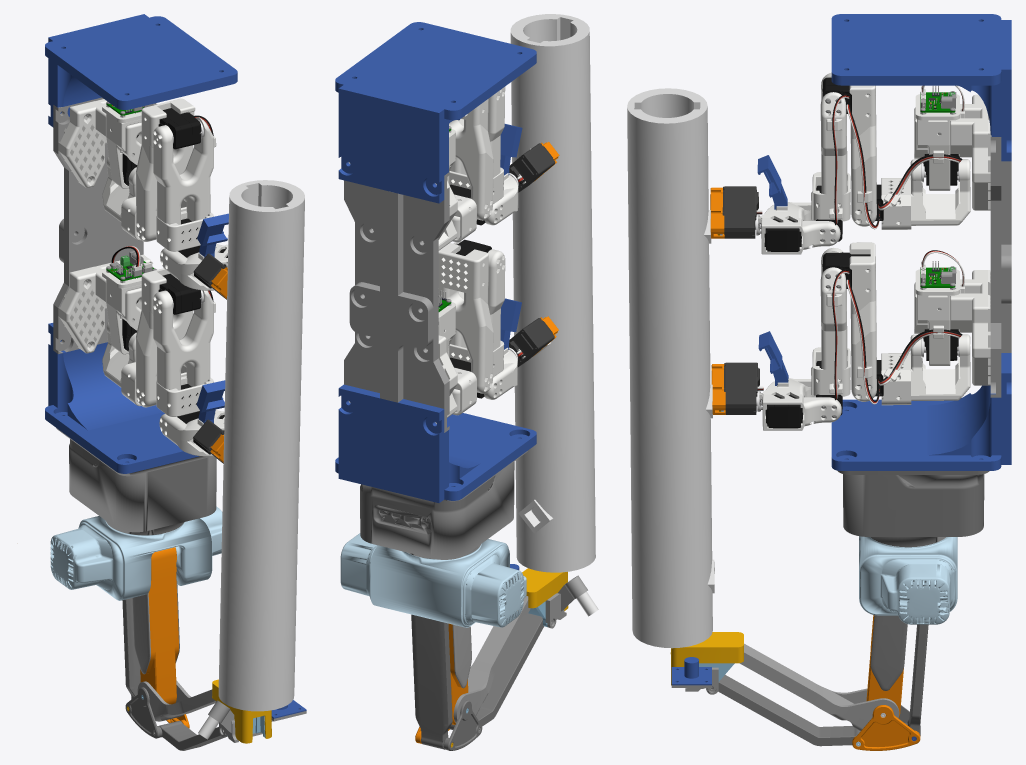
File: robot-assembly.glb
3 views of the same model, side by side, from view 1: azimuth 30°, elevation 25°; view 2: azimuth 150°, elevation 25°; view 3: azimuth 270°, elevation 25° (orthographic). The views are drawn at different scales.
Parts seen in each view (by area): view 1: Part 1 (×8), Part 13 (×3), Under_arm_SO101 v12:1__Body1 (×2), Base_SO101 v12:1__Body5 (×2), Upper_arm_SO101 v9:1__Body1 (×2), Part 3 (×2), Surface 1, Part 2, Wrist_Roll_Pitch_SO100 v15:1__Body1 (×2), Motor_holder_SO101_Wrist v8:1__Body1 (×2), Base_08p v18:1__Body4 (×2), Rotation_Pitch_SO101 v8:1__Body1 (×2) (+6 smaller); view 2: Part 1 (×8), Part 13 (×3), Part 3 (×2), Part 2, Upper_arm_SO101 v9:1__Body1 (×2), Under_arm_SO101 v12:1__Body1 (×2), Corps14 (×2), Wrist_Roll_Pitch_SO100 v15:1__Body1 (×2), Part 92 (×2), Motor_holder_SO101_Base v6:1__Body1 (×2), Motor_holder_SO101_Wrist v8:1__Body1 (×2), Part 7 (+3 smaller); view 3: Part 1 (×7), Part 13 (×3), Upper_arm_SO101 v9:1__Body1 (×2), Base_SO101 v12:1__Body5 (×2), Rotation_Pitch_SO101 v8:1__Body1 (×2), Under_arm_SO101 v12:1__Body1 (×2), Wrist_Roll_Pitch_SO100 v15:1__Body1 (×2), Part 3 (×2), Base_08p v18:1__Body4 (×2), Corps14 (×2), Motor_holder_SO101_Base v6:1__Body1 (×2), Motor_holder_SO101_Wrist v8:1__Body1 (×2) (+7 smaller).
Part boxes in pixels (bbox=[...]): Part 1 (×8): bbox=[45, 14, 237, 750]; Part 13 (×3): bbox=[218, 180, 304, 711]; Under_arm_SO101 v12:1__Body1 (×2): bbox=[153, 117, 216, 390]; Base_SO101 v12:1__Body5 (×2): bbox=[58, 99, 150, 353]; Upper_arm_SO101 v9:1__Body1 (×2): bbox=[136, 98, 195, 407]; Part 3 (×2): bbox=[53, 97, 271, 743]; Surface 1: bbox=[140, 547, 178, 704]; Part 2: bbox=[53, 219, 143, 354]; Wrist_Roll_Pitch_SO100 v15:1__Body1 (×2): bbox=[159, 244, 228, 456]; Motor_holder_SO101_Wrist v8:1__Body1 (×2): bbox=[156, 207, 213, 416]; Base_08p v18:1__Body4 (×2): bbox=[106, 114, 141, 354]; Rotation_Pitch_SO101 v8:1__Body1 (×2): bbox=[102, 156, 138, 401]; Part 1 (×8): bbox=[335, 22, 543, 750]; Part 13 (×3): bbox=[510, 14, 595, 572]; Part 3 (×2): bbox=[344, 162, 568, 610]; Part 2: bbox=[344, 282, 449, 432]; Upper_arm_SO101 v9:1__Body1 (×2): bbox=[438, 99, 493, 393]; Under_arm_SO101 v12:1__Body1 (×2): bbox=[450, 86, 505, 358]; Corps14 (×2): bbox=[509, 143, 555, 367]; Wrist_Roll_Pitch_SO100 v15:1__Body1 (×2): bbox=[484, 173, 518, 399]; Part 92 (×2): bbox=[500, 124, 522, 349]; Motor_holder_SO101_Base v6:1__Body1 (×2): bbox=[452, 194, 476, 415]; Motor_holder_SO101_Wrist v8:1__Body1 (×2): bbox=[449, 167, 504, 377]; Part 7: bbox=[545, 575, 587, 628]; Part 1 (×7): bbox=[718, 14, 1011, 746]; Part 13 (×3): bbox=[627, 88, 714, 648]; Upper_arm_SO101 v9:1__Body1 (×2): bbox=[849, 85, 876, 401]; Base_SO101 v12:1__Body5 (×2): bbox=[914, 94, 990, 385]; Rotation_Pitch_SO101 v8:1__Body1 (×2): bbox=[881, 159, 970, 400]; Under_arm_SO101 v12:1__Body1 (×2): bbox=[820, 73, 847, 381]; Wrist_Roll_Pitch_SO100 v15:1__Body1 (×2): bbox=[758, 202, 841, 430]; Part 3 (×2): bbox=[670, 135, 1011, 685]; Base_08p v18:1__Body4 (×2): bbox=[917, 119, 950, 365]; Corps14 (×2): bbox=[722, 186, 760, 414]; Motor_holder_SO101_Base v6:1__Body1 (×2): bbox=[881, 177, 911, 405]; Motor_holder_SO101_Wrist v8:1__Body1 (×2): bbox=[811, 172, 850, 396].
Bounding box in the file's own units: 0.2398 × 0.7259 × 0.3631.
